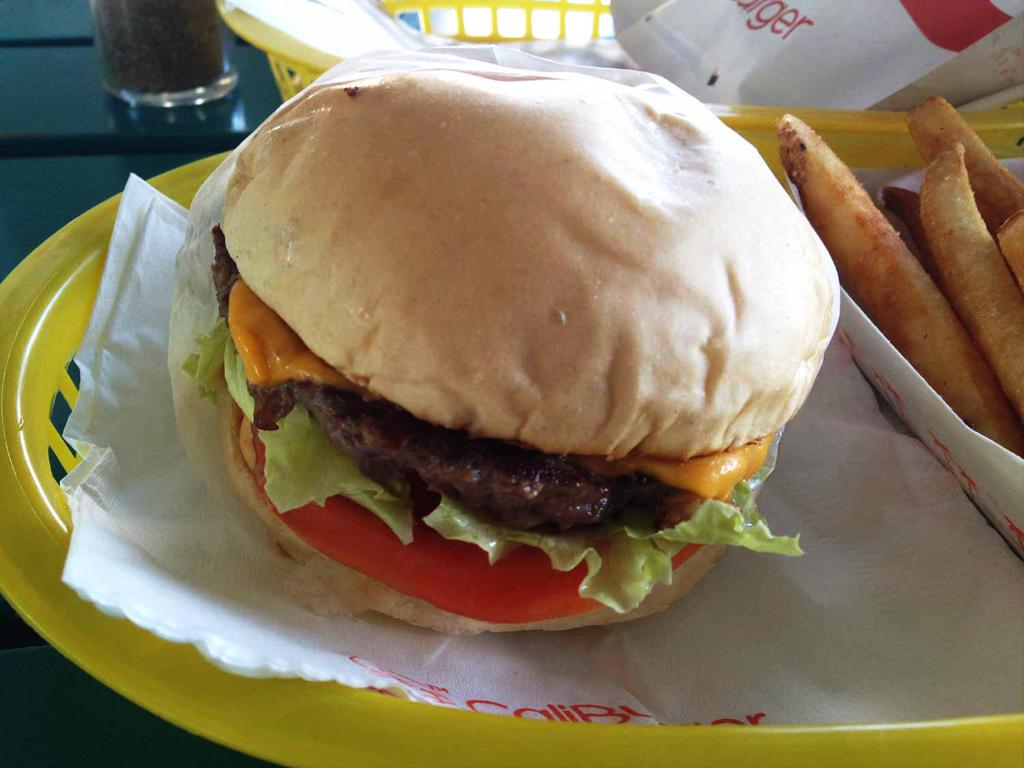French fries: (770, 85, 1024, 447)
